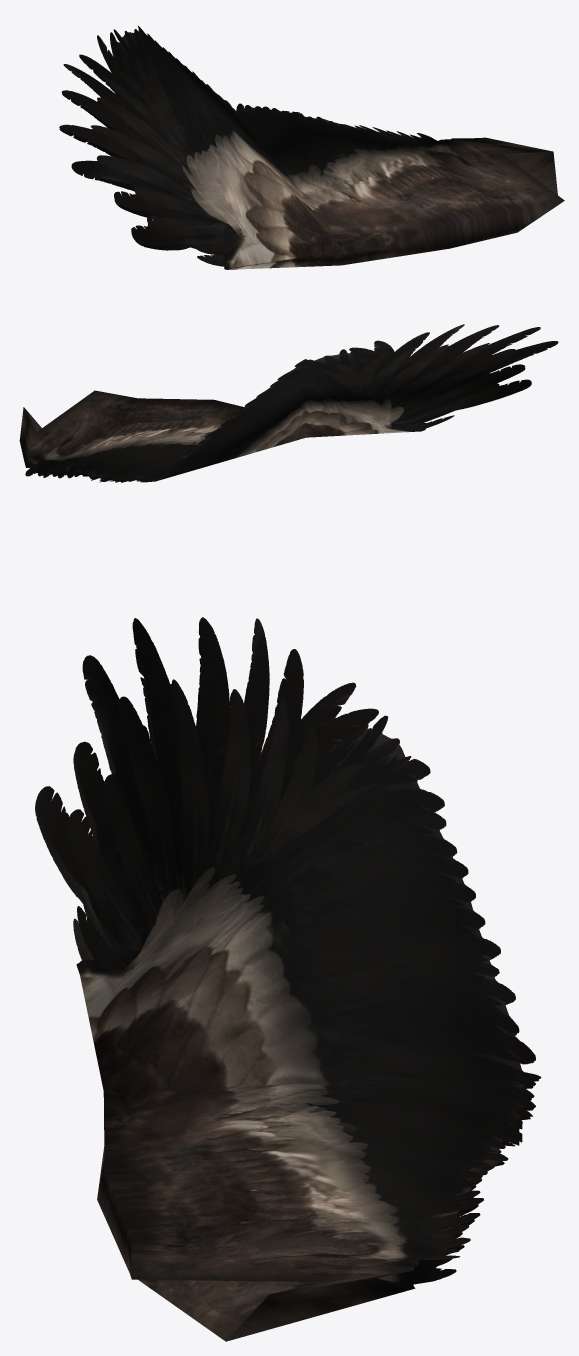
The model's file is vulture_right_wing.obj.
3 renders of one model, top to bottom at view 1: azimuth 30°, elevation 25°; view 2: azimuth 150°, elevation 25°; view 3: azimuth 270°, elevation 25°, orthographic. The views are drawn at different scales.
Visible parts, largest first — view 1: rightwing; view 2: rightwing; view 3: rightwing.
Boxes of the visible parts, x1,y1,x2,y2 form: rightwing: (59,26,564,269); rightwing: (19,324,558,482); rightwing: (35,617,541,1341).
Size of the model in its own units: 0.3868 by 0.175 by 0.2142.
1 material, 1 textured.
